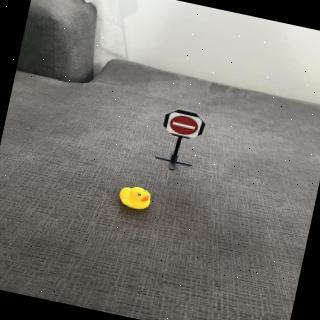duck_regular: (117, 182, 156, 215)
sign_noentry: (165, 111, 206, 142)
